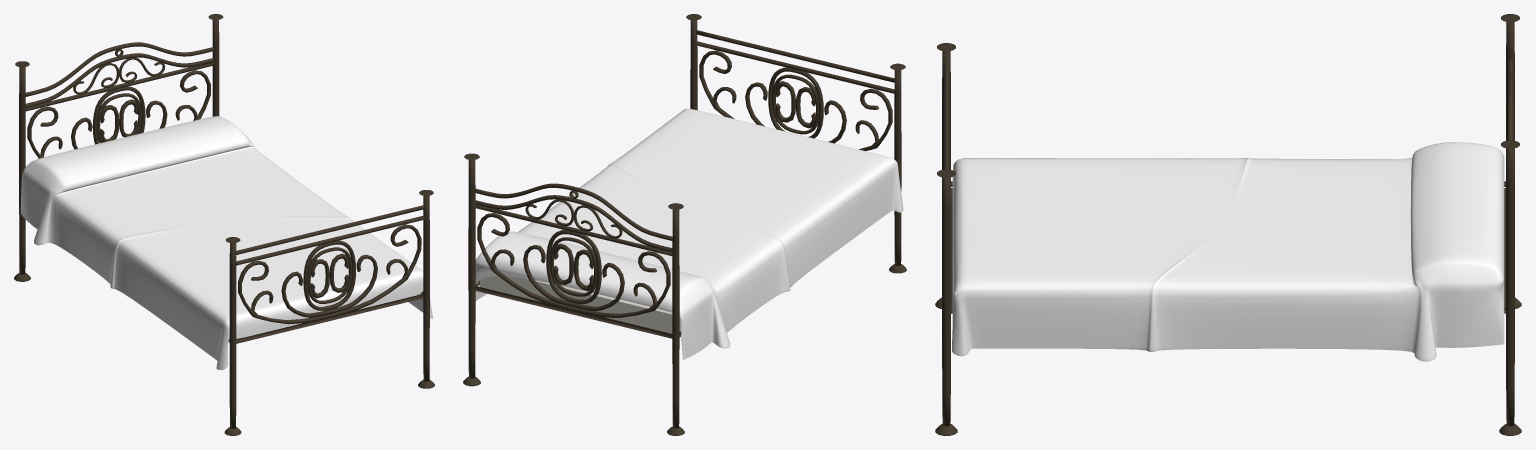
The model's file is iron_bed.glb.
The picture shows the model from 3 angles, left to right: view 1: azimuth 30°, elevation 25°; view 2: azimuth 150°, elevation 25°; view 3: azimuth 270°, elevation 25°; orthographic projection. The views are drawn at different scales.
Visible parts, largest first — view 1: Colcha_Plane.003, bed_Cylinder.001; view 2: Colcha_Plane.003, bed_Cylinder.001, mattress_Cube; view 3: Colcha_Plane.003, bed_Cylinder.001.
Part boxes in pixels (box(x1,y1,x2,y2)): Colcha_Plane.003: box(20, 116, 432, 369); bed_Cylinder.001: box(14, 14, 434, 435); Colcha_Plane.003: box(475, 108, 903, 359); bed_Cylinder.001: box(463, 14, 906, 435); mattress_Cube: box(480, 276, 680, 333); Colcha_Plane.003: box(952, 142, 1504, 361); bed_Cylinder.001: box(935, 14, 1521, 435).
Bounding box in the file's own units: 1.32 × 1.16 × 2.15.
